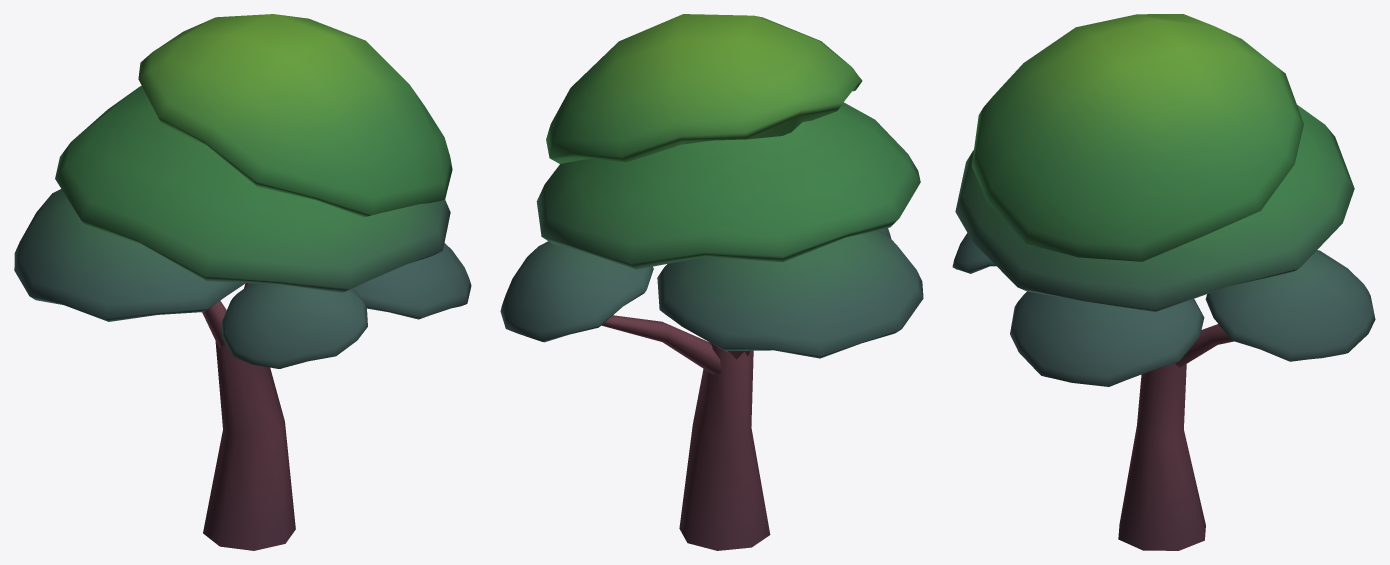
The model's file is tree_pack_07.glb.
3 renders of one model, left to right at view 1: azimuth 30°, elevation 25°; view 2: azimuth 150°, elevation 25°; view 3: azimuth 270°, elevation 25°, orthographic.
Parts seen in each view (by area): view 1: Tree.007; view 2: Tree.007; view 3: Tree.007.
Boxes of the visible parts, left/top/right/bottom form: Tree.007: left=14, top=14, right=471, bottom=550; Tree.007: left=500, top=14, right=923, bottom=550; Tree.007: left=952, top=14, right=1375, bottom=550.
Bounding box in the file's own units: 4.43 × 5.58 × 4.25.
1 material, 1 textured.
